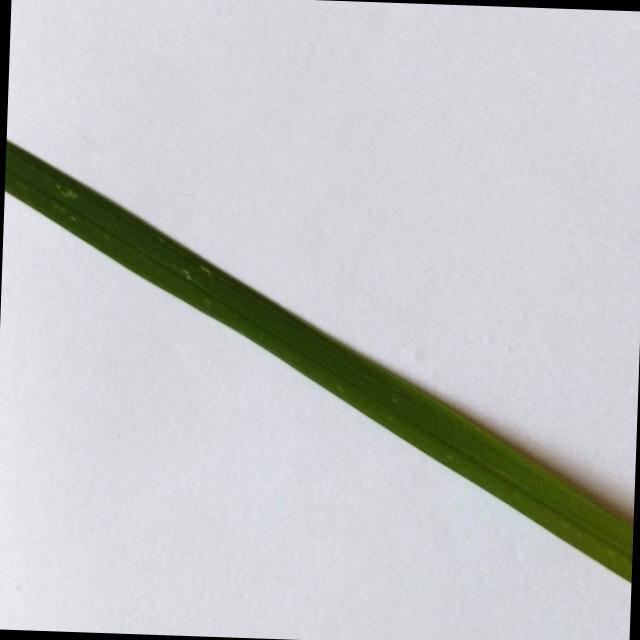Rice_Healthy: (4, 141, 633, 581)
